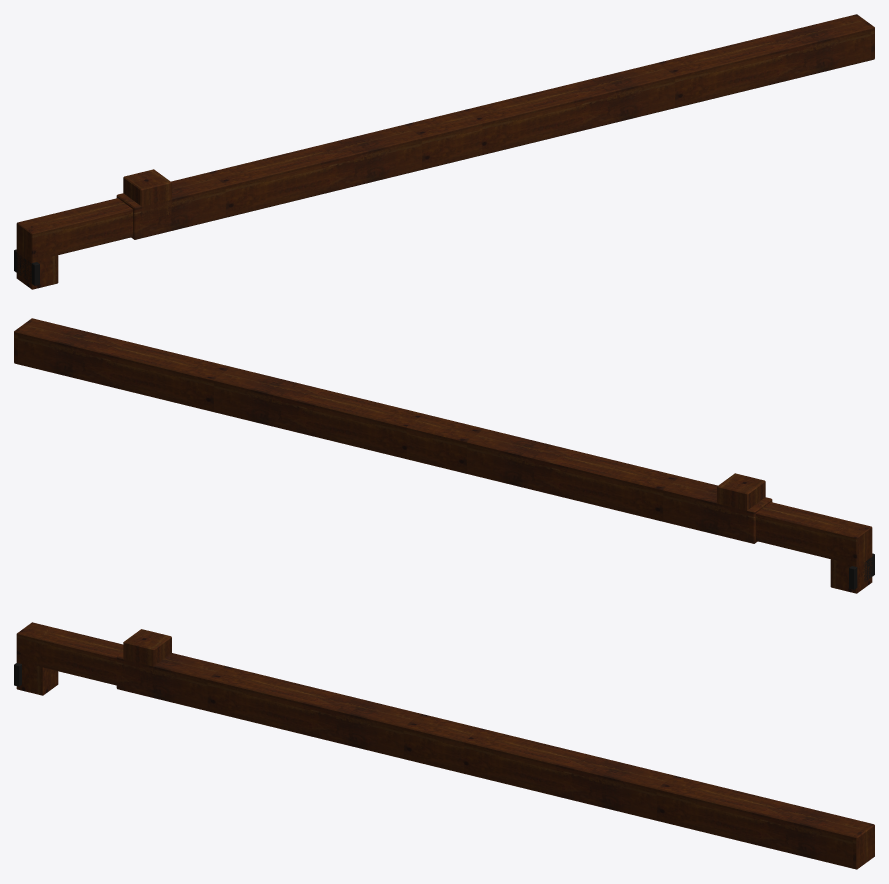
The model's file is roof-tie-555.glb.
3 views of the same model, one above another, from view 1: azimuth 30°, elevation 25°; view 2: azimuth 150°, elevation 25°; view 3: azimuth 330°, elevation 25° (orthographic).
Parts seen in each view (by area): view 1: roof-tie-555; view 2: roof-tie-555; view 3: roof-tie-555.
Part boxes in pixels (bbox=[...]): roof-tie-555: bbox=[14, 14, 874, 289]; roof-tie-555: bbox=[14, 318, 874, 593]; roof-tie-555: bbox=[14, 622, 874, 869].
Size of the model in its own units: 3.75 by 0.32 by 0.16.
1 material, 1 textured.
